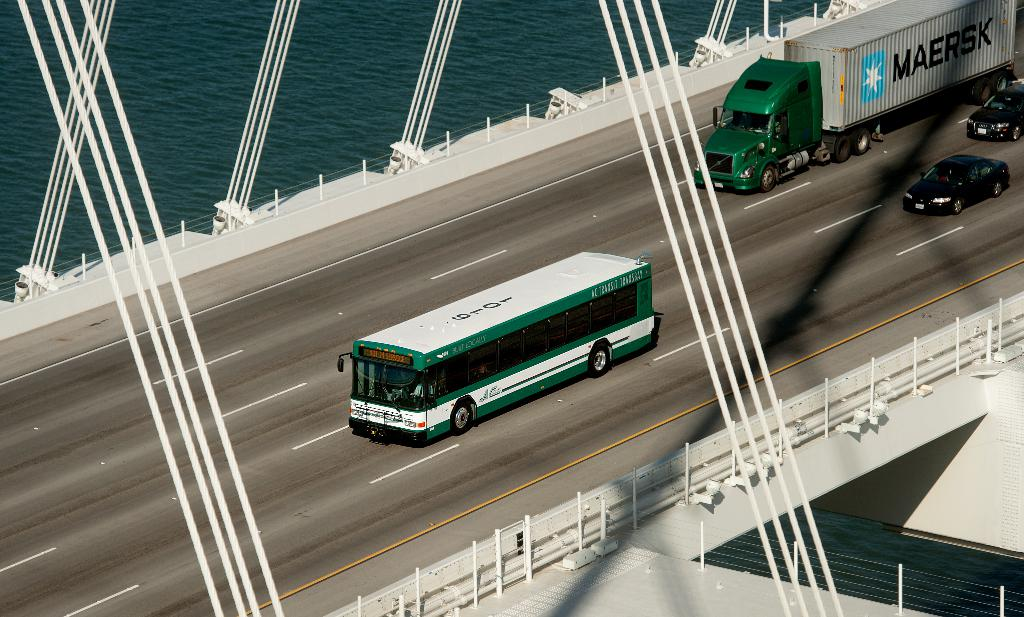Bus: (335, 243, 662, 444)
